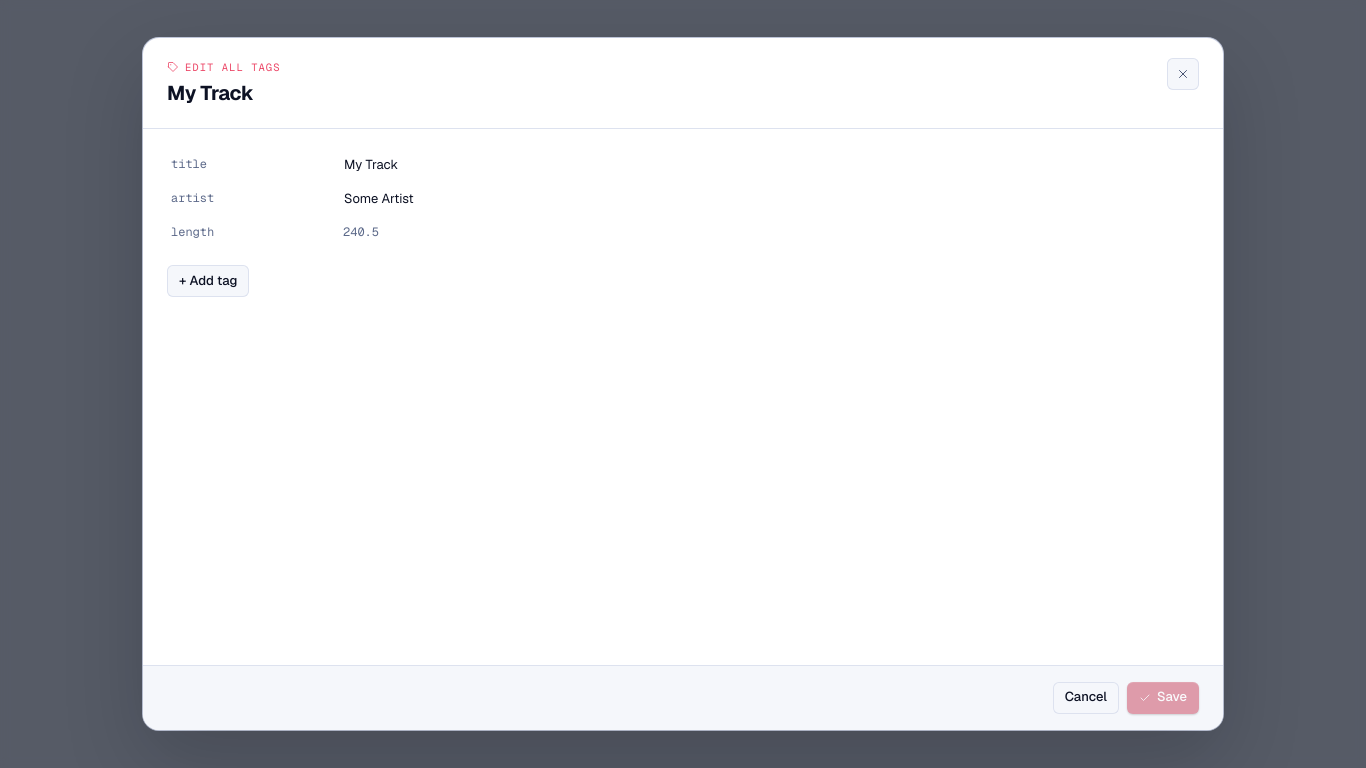
Test: ItemTagsEditor › shows warnings non-blockingly and does not auto-close
The width and height of the screenshot is (1366, 768).
Replace the text in the field showing "My Track" next to "title" with "Changed": coordinates (753, 165) x1=335 y1=151 x2=1171 y2=179
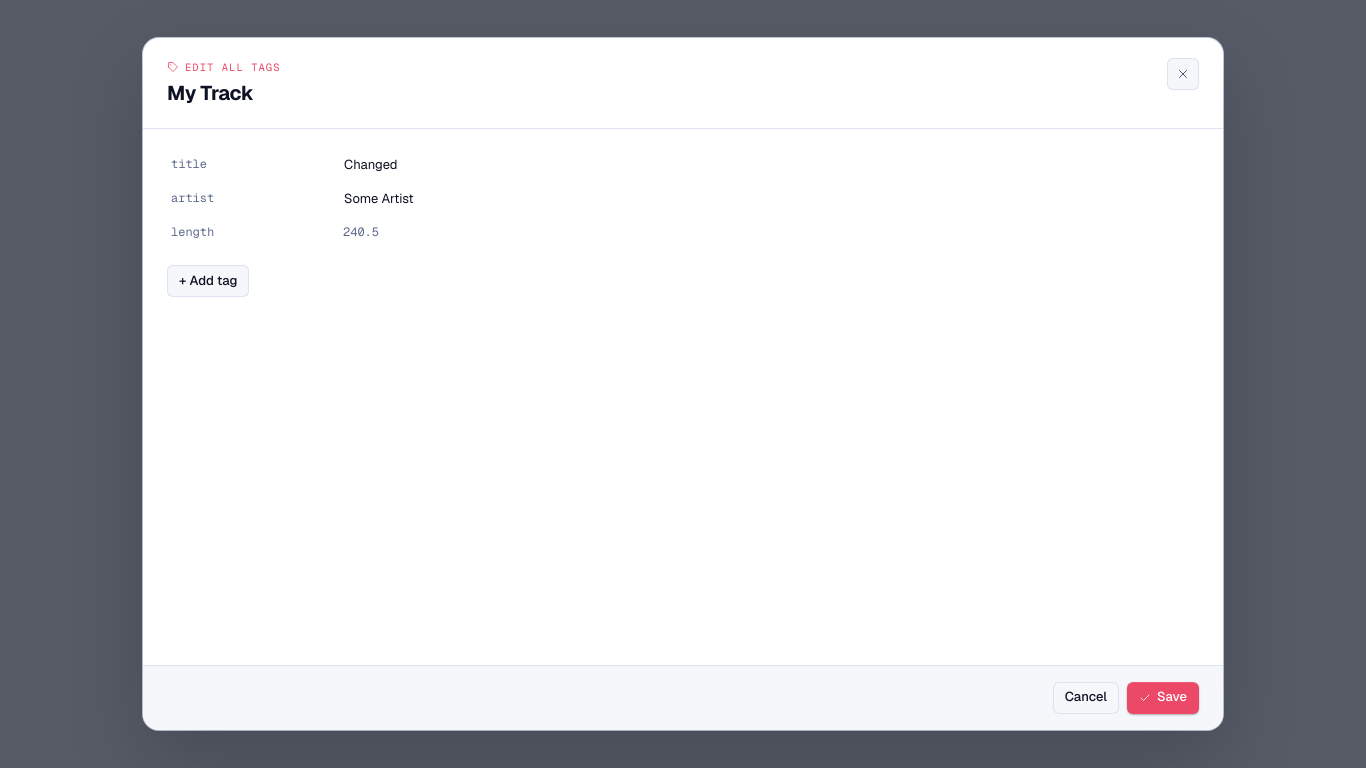
Click the button "Save": coordinates (1163, 698) x1=1127 y1=682 x2=1199 y2=714
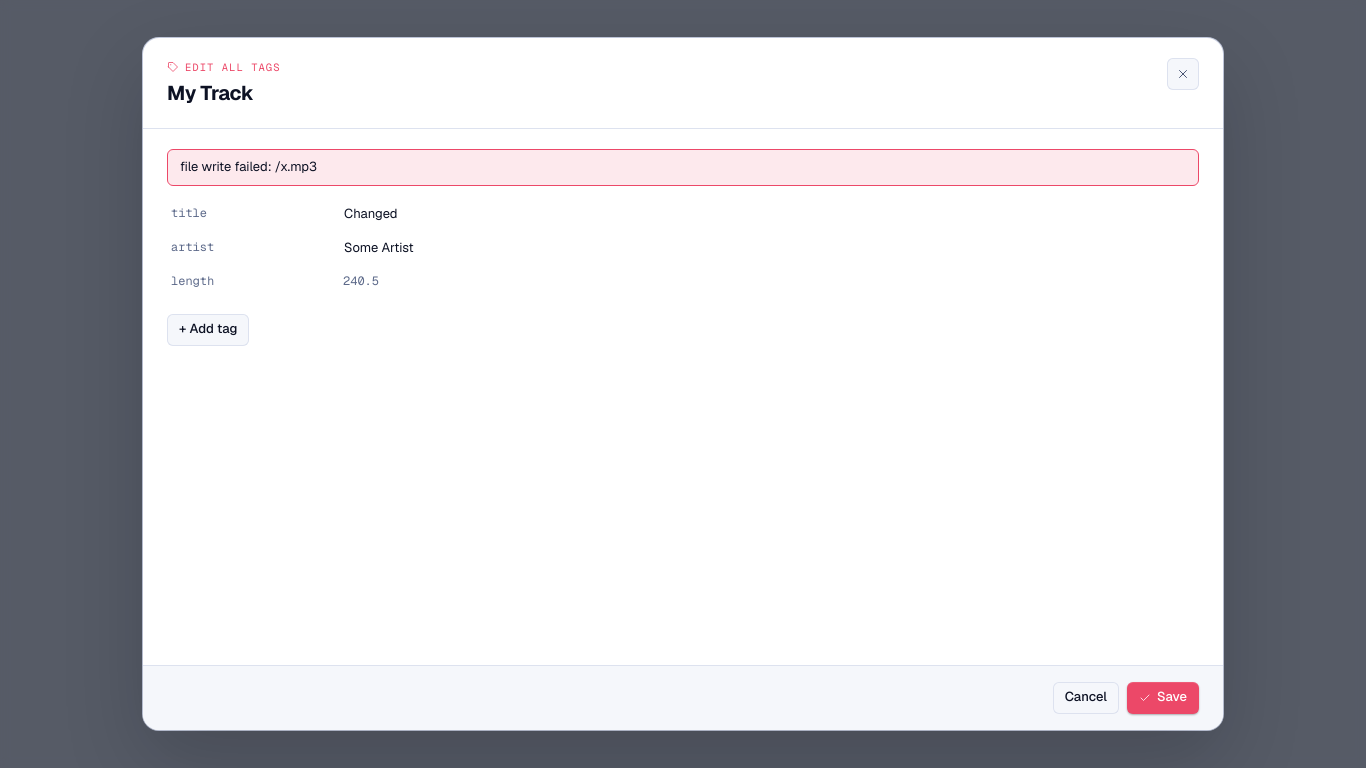
Check: the text "file write failed: /x.mp3" is shown, box x1=167 y1=149 x2=1199 y2=186
